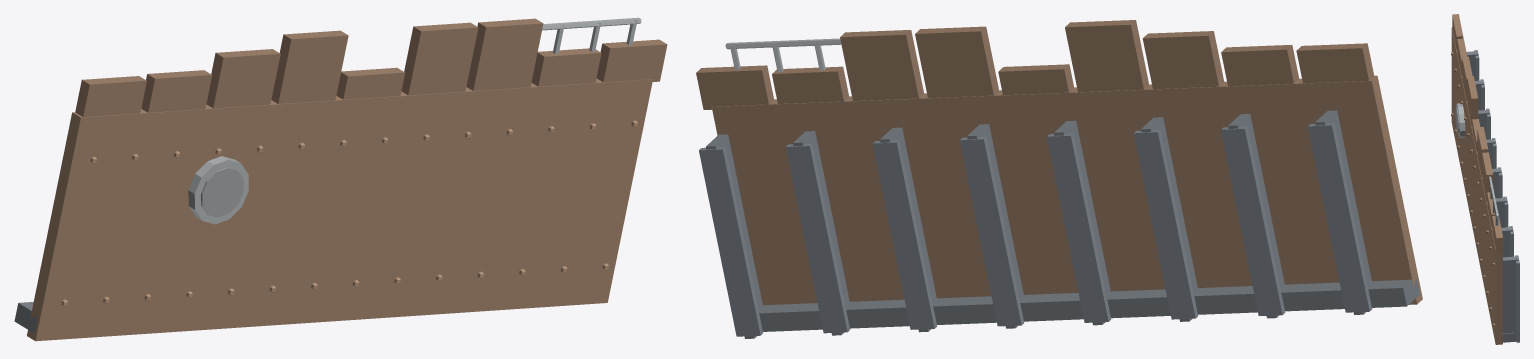
3 renders of one model, left to right at view 1: azimuth 30°, elevation 25°; view 2: azimuth 150°, elevation 25°; view 3: azimuth 270°, elevation 25°, orthographic. The views are drawn at different scales.
Parts seen in each view (by area): view 1: sea_wreck_hull; view 2: sea_wreck_hull; view 3: sea_wreck_hull.
Boxes of the visible parts, x1,y1,x2,y2 form: sea_wreck_hull: (14, 17, 667, 341); sea_wreck_hull: (696, 20, 1422, 338); sea_wreck_hull: (1451, 14, 1519, 344).
Size of the model in its own units: 11.75 by 6.4 by 2.06.
